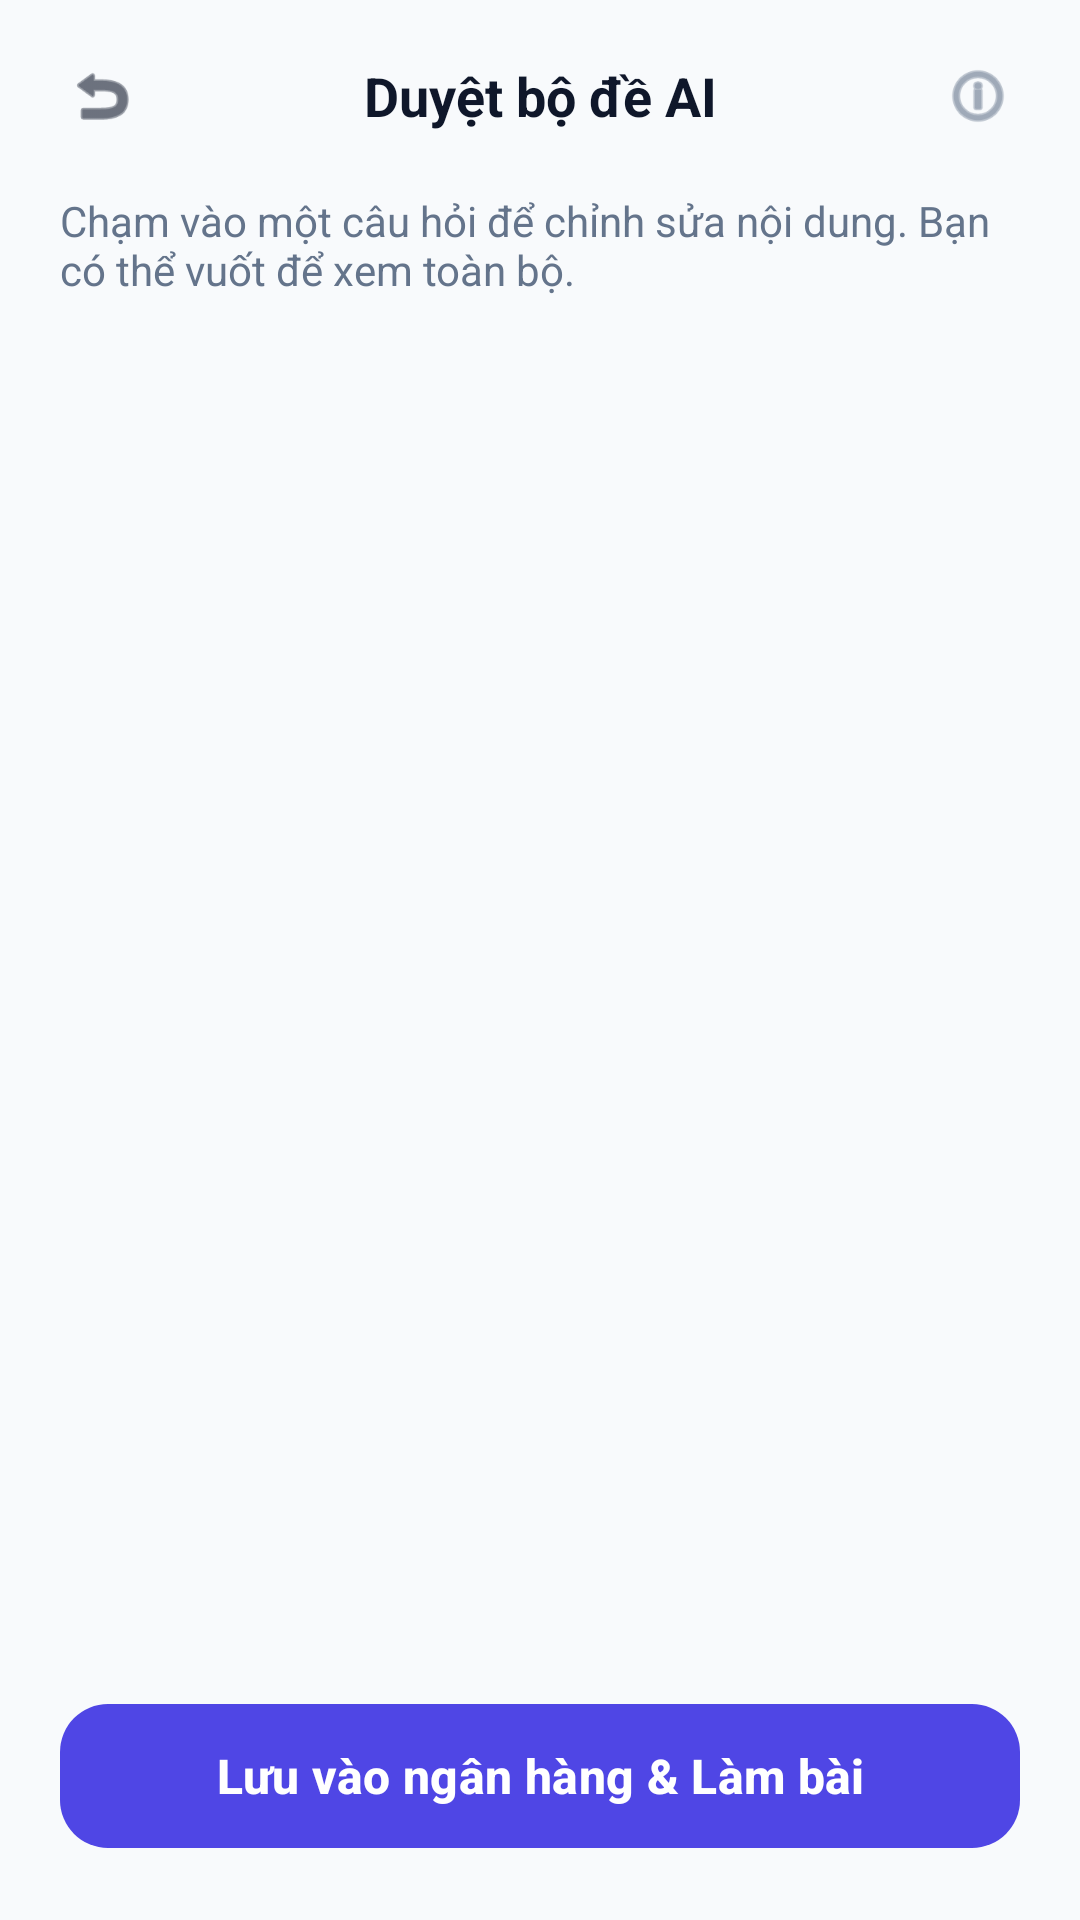

Locate icon controls on the screen. Image size 1080×1920, boxes as (x1, y1, x2, y2).
info details: (952, 70, 1004, 122)
revert: (77, 73, 129, 120)
